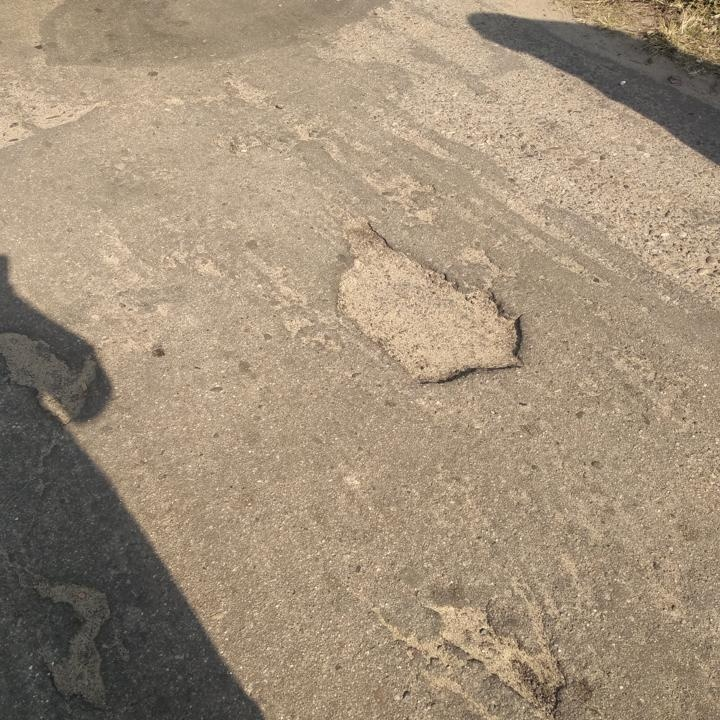pothole: (325, 211, 532, 389), (417, 596, 576, 720)
